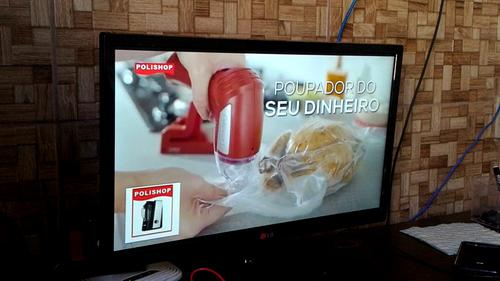Polishop #1: (124, 182, 180, 242)
